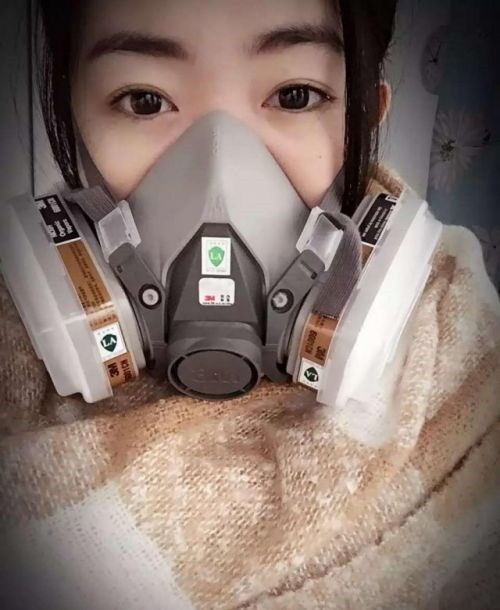face_mask: (13, 1, 425, 400)
